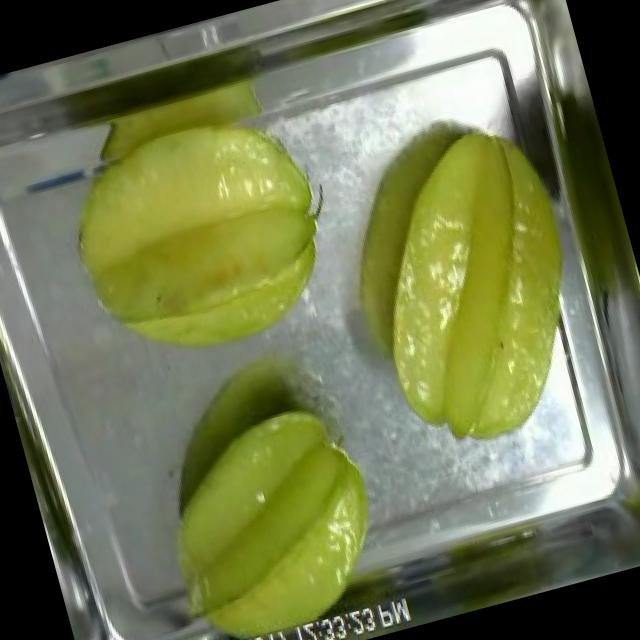fruit: (324, 98, 620, 472), (32, 73, 360, 394), (125, 381, 410, 640)
